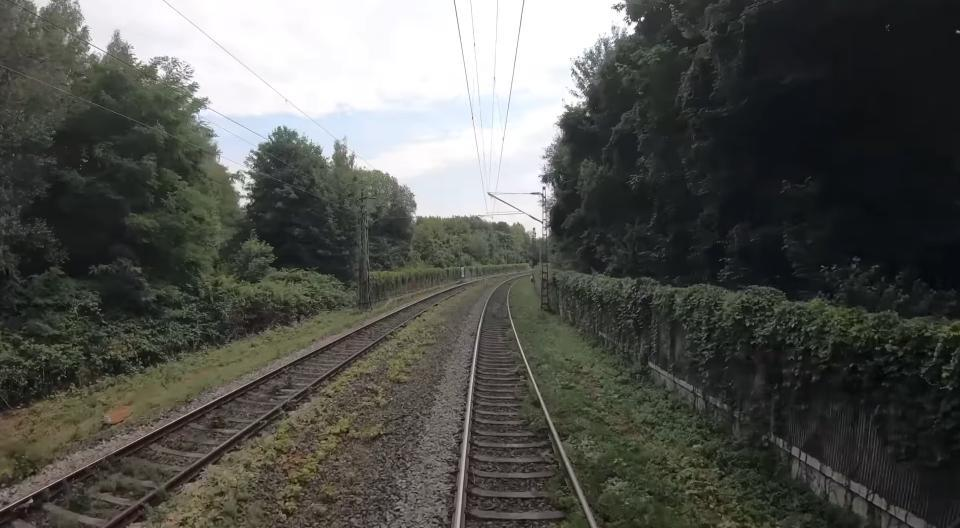Plant: (510, 281, 864, 528), (152, 294, 460, 528), (94, 456, 173, 500), (521, 378, 550, 437), (501, 327, 527, 376), (555, 495, 590, 528), (61, 488, 91, 515), (49, 512, 81, 528), (204, 412, 229, 429), (268, 385, 284, 396), (284, 374, 297, 385)
